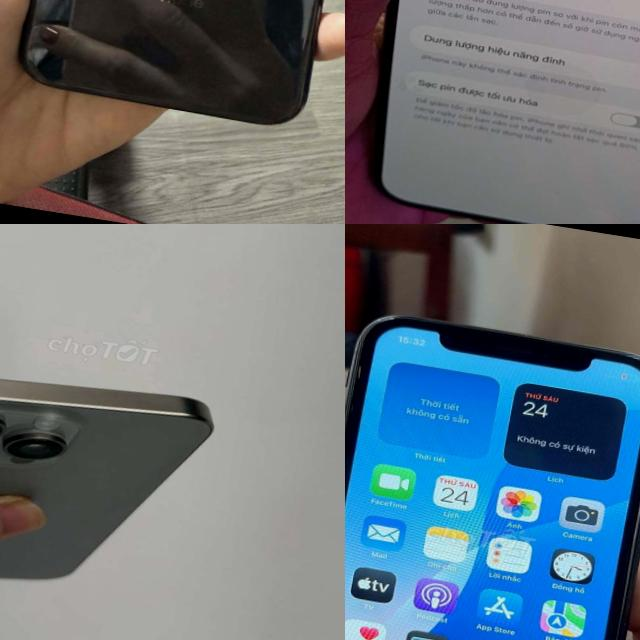gen_14: (345, 0, 640, 224)
gen_15: (0, 334, 230, 629)
gen_x_xs: (345, 303, 640, 640), (0, 0, 345, 148)
